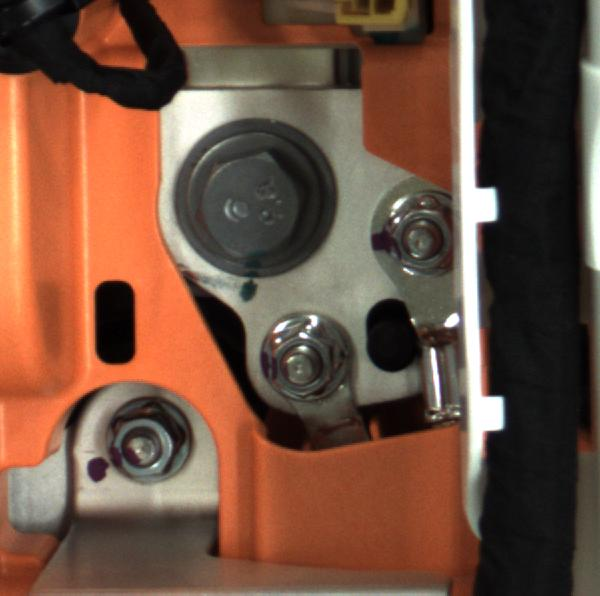screw_s: (100, 398, 189, 492), (377, 183, 461, 274), (265, 317, 349, 405)
